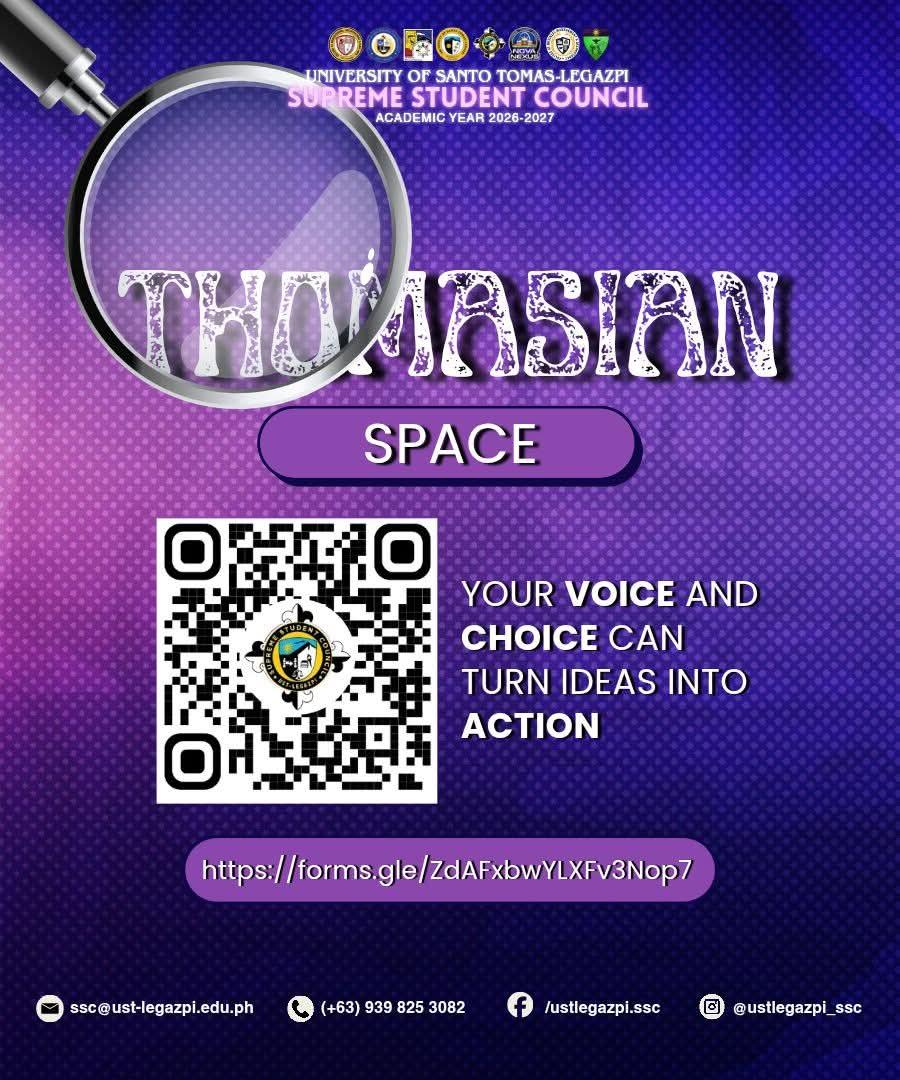embellishment: (1, 0, 413, 412), (157, 516, 439, 804), (503, 987, 540, 1023), (31, 991, 66, 1025), (284, 990, 315, 1025), (695, 990, 727, 1023)
logo: (324, 24, 366, 66), (433, 25, 472, 64), (365, 25, 402, 64), (545, 25, 582, 64), (471, 24, 507, 61), (507, 25, 543, 62), (402, 25, 435, 64), (581, 25, 611, 62)
text: (110, 261, 789, 383), (455, 574, 765, 747), (285, 67, 656, 126), (197, 852, 697, 890), (363, 418, 541, 468), (67, 997, 258, 1019), (320, 996, 469, 1017), (544, 995, 669, 1020), (733, 998, 865, 1020)
underlay: (188, 837, 714, 903), (257, 405, 642, 489)
